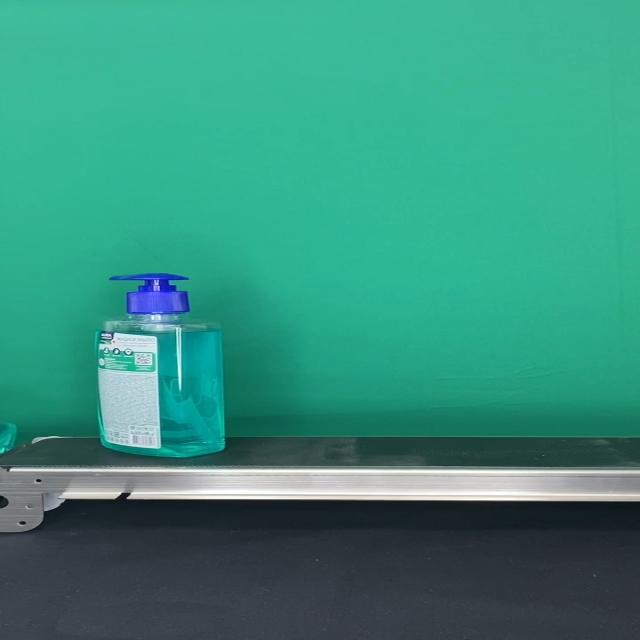Bottle: (93, 273, 226, 458)
Cap: (108, 273, 189, 315)
